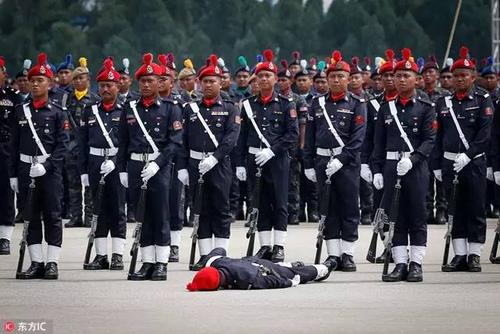fall: (190, 240, 342, 293)
